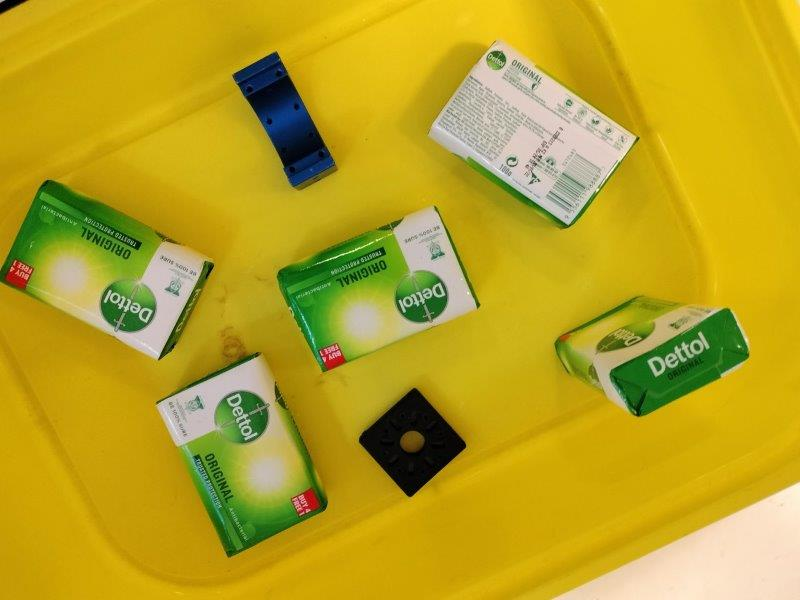Dettol: (429, 39, 639, 228), (1, 180, 214, 357), (155, 355, 329, 557), (278, 207, 479, 373), (554, 294, 751, 418)
